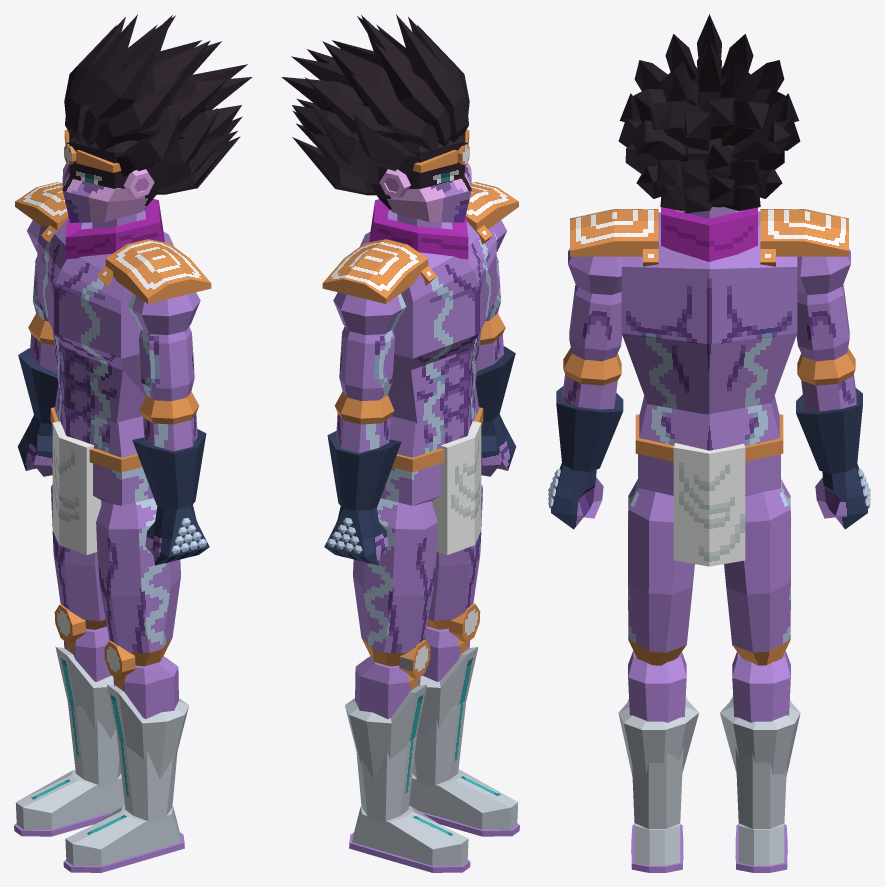
File: StarD.glb
3 views of the same model, side by side, from view 1: azimuth 30°, elevation 25°; view 2: azimuth 150°, elevation 25°; view 3: azimuth 270°, elevation 25° (orthographic). The views are drawn at different scales.
Visible parts, largest first — view 1: Cabeça, Torso, Pélvis, Perna Baixo E, Perna Cima E, Perna Baixo D, Braço Baixo E, Braço Cima E, Pé E, Pé D, Perna Cima D, Braço Baixo D (+4 smaller); view 2: Cabeça, Torso, Pélvis, Perna Baixo D, Perna Cima D, Perna Baixo E, Braço Baixo D, Braço Cima D, Pé D, Pé E, Perna Cima E, Braço Baixo E (+4 smaller); view 3: Torso, Cabeça, Pélvis, Perna Baixo E, Perna Baixo D, Perna Cima E, Perna Cima D, Braço Baixo D, Braço Baixo E, Braço Cima E, Braço Cima D, Pé E (+3 smaller).
Part boxes in pixels (x1=…): Cabeça: x1=62, y1=14, x2=252, y2=222; Torso: x1=15, y1=182, x2=211, y2=423; Pélvis: x1=50, y1=383, x2=153, y2=554; Perna Baixo E: x1=104, y1=640, x2=188, y2=823; Perna Cima E: x1=96, y1=498, x2=180, y2=666; Perna Baixo D: x1=54, y1=604, x2=121, y2=787; Braço Baixo E: x1=132, y1=391, x2=206, y2=509; Braço Cima E: x1=127, y1=292, x2=200, y2=400; Pé E: x1=63, y1=806, x2=184, y2=872; Pé D: x1=14, y1=769, x2=124, y2=836; Perna Cima D: x1=51, y1=484, x2=106, y2=629; Braço Baixo D: x1=18, y1=313, x2=58, y2=424; Cabeça: x1=281, y1=14, x2=471, y2=222; Torso: x1=322, y1=182, x2=518, y2=423; Pélvis: x1=380, y1=383, x2=483, y2=554; Perna Baixo D: x1=345, y1=640, x2=430, y2=823; Perna Cima D: x1=353, y1=498, x2=437, y2=666; Perna Baixo E: x1=412, y1=603, x2=480, y2=787; Braço Baixo D: x1=327, y1=391, x2=401, y2=510; Braço Cima D: x1=333, y1=292, x2=406, y2=400; Pé D: x1=349, y1=806, x2=470, y2=872; Pé E: x1=409, y1=769, x2=519, y2=836; Perna Cima E: x1=427, y1=484, x2=482, y2=629; Braço Baixo E: x1=475, y1=313, x2=515, y2=422; Torso: x1=570, y1=197, x2=848, y2=414; Cabeça: x1=618, y1=14, x2=800, y2=213; Pélvis: x1=635, y1=396, x2=783, y2=566; Perna Baixo E: x1=618, y1=651, x2=698, y2=828; Perna Baixo D: x1=720, y1=651, x2=800, y2=828; Perna Cima E: x1=628, y1=479, x2=694, y2=665; Perna Cima D: x1=724, y1=479, x2=790, y2=665; Braço Baixo D: x1=796, y1=348, x2=862, y2=473; Braço Baixo E: x1=556, y1=348, x2=623, y2=471; Braço Cima E: x1=568, y1=249, x2=622, y2=361; Braço Cima D: x1=796, y1=249, x2=850, y2=361; Pé E: x1=631, y1=823, x2=683, y2=872.
Bounding box in the file's own units: 2.82 × 11.22 × 3.84.
7 materials, 7 textured.
